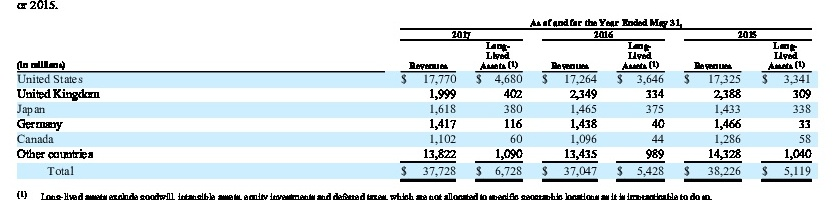table: (0, 0, 833, 200)
